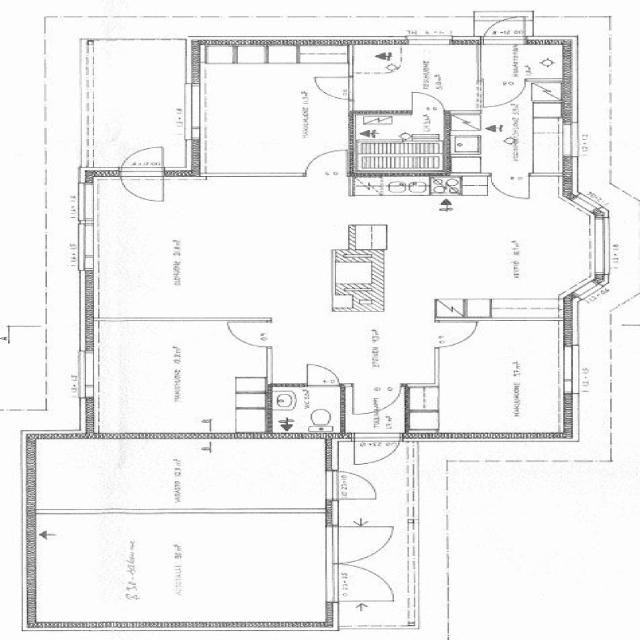door: (199, 48, 349, 175), (332, 433, 390, 501), (116, 143, 168, 205), (330, 524, 396, 564), (331, 563, 395, 603), (326, 468, 380, 502), (350, 433, 401, 467), (221, 318, 276, 349), (429, 318, 482, 349), (298, 147, 350, 178), (478, 15, 528, 45), (477, 80, 523, 110), (307, 74, 356, 102), (487, 172, 532, 202), (297, 361, 343, 388), (406, 90, 448, 113)
window: (579, 215, 617, 279), (180, 77, 210, 134), (554, 342, 584, 396), (75, 346, 102, 400), (75, 220, 102, 271), (556, 118, 580, 160), (404, 35, 454, 47)
zone: (373, 191, 596, 320), (89, 319, 270, 436), (196, 47, 349, 178), (432, 318, 565, 436), (82, 38, 191, 164), (351, 42, 482, 111), (351, 111, 446, 172), (1, 330, 49, 413), (342, 172, 458, 205), (268, 384, 342, 434), (512, 43, 568, 81), (349, 384, 404, 417)
